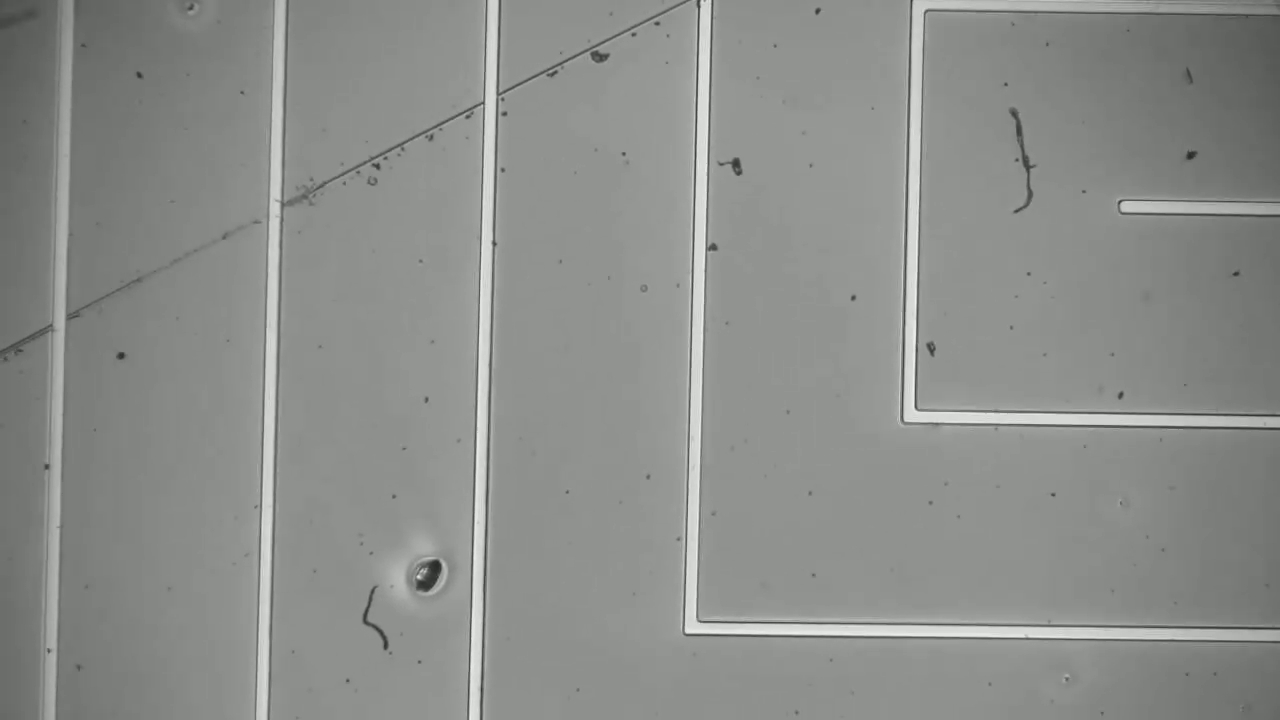scratch: (7, 1, 698, 357)
